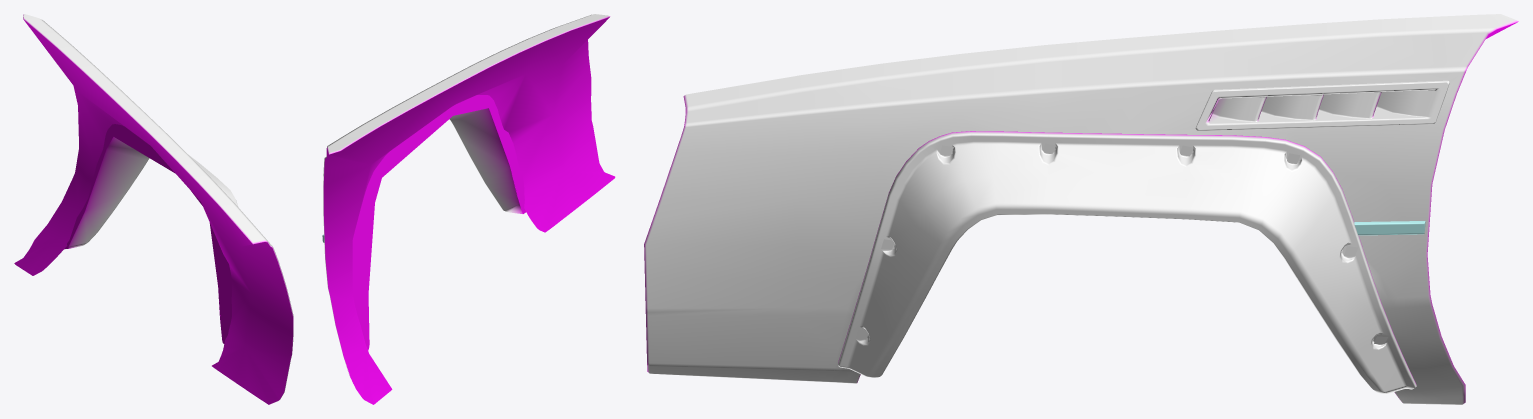
Rendered from Car_Buick_GrandNational_1987_FenderFL_SetC.fbx.
3 views of the same model, side by side, from view 1: azimuth 30°, elevation 25°; view 2: azimuth 150°, elevation 25°; view 3: azimuth 270°, elevation 25° (orthographic). The views are drawn at different scales.
Parts seen in each view (by area): view 1: FenderFL 6; view 2: FenderFL 6; view 3: FenderFL 6.
Boxes of the visible parts, <box> form: FenderFL 6: <box>14,14,293,404</box>; FenderFL 6: <box>322,14,615,404</box>; FenderFL 6: <box>644,14,1518,404</box>.
Bounding box in the file's own units: 0.2837 × 0.7254 × 1.42.
